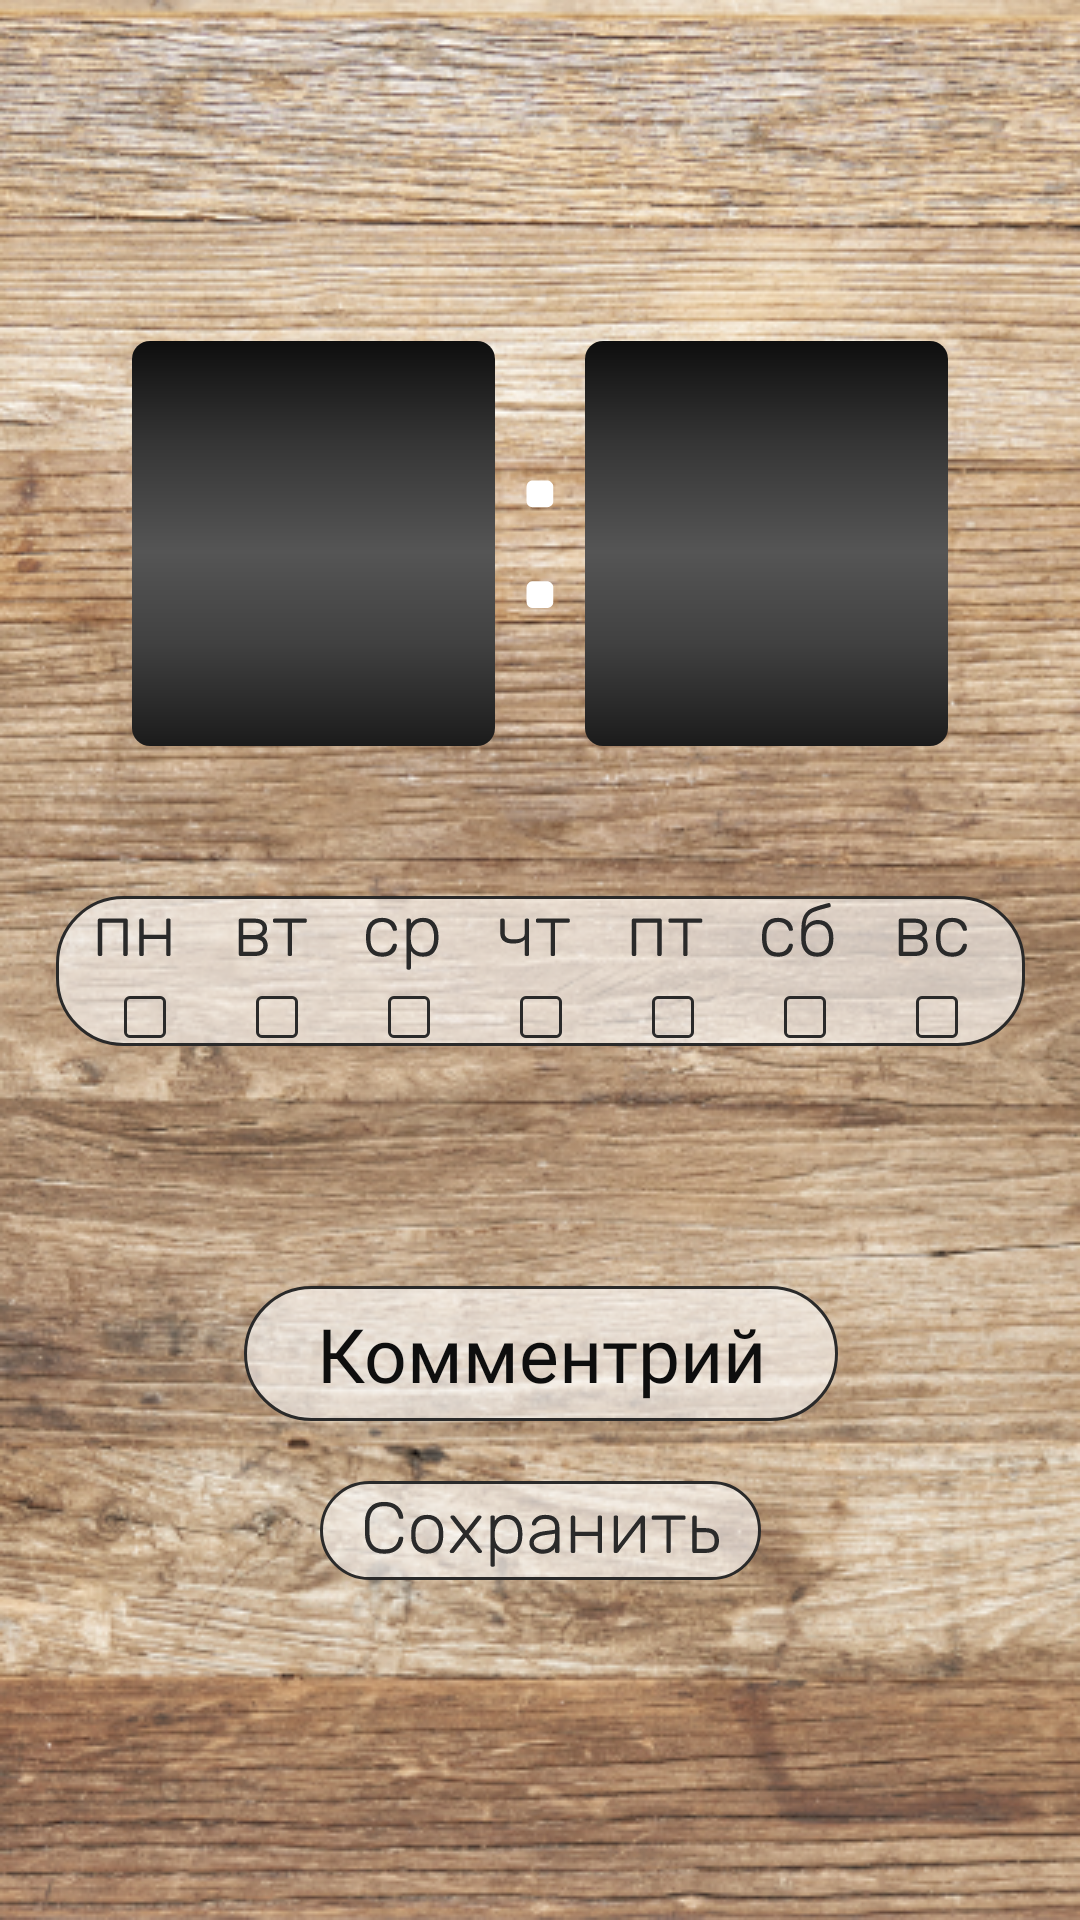

Icon click points for this 1080w x 1920h phone screenshot, format (x,y):
added alarm clock colon: (540,544)
